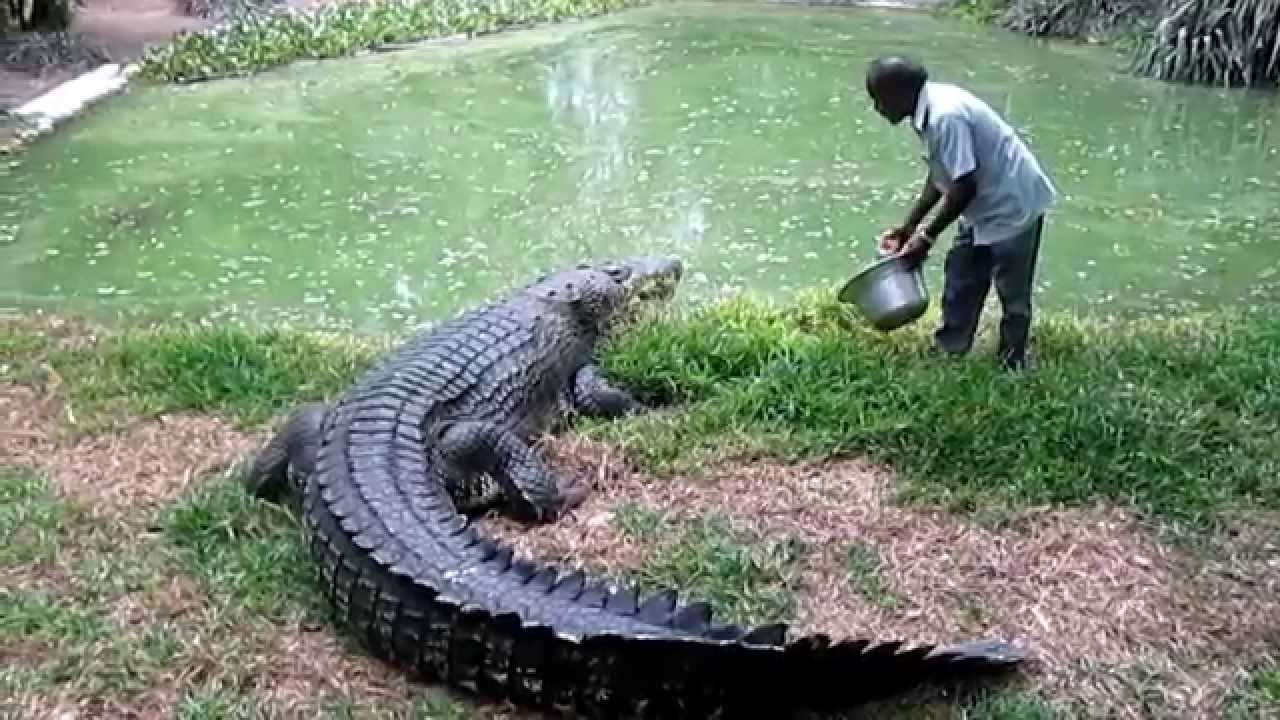Crocodile: (242, 257, 1024, 711)
